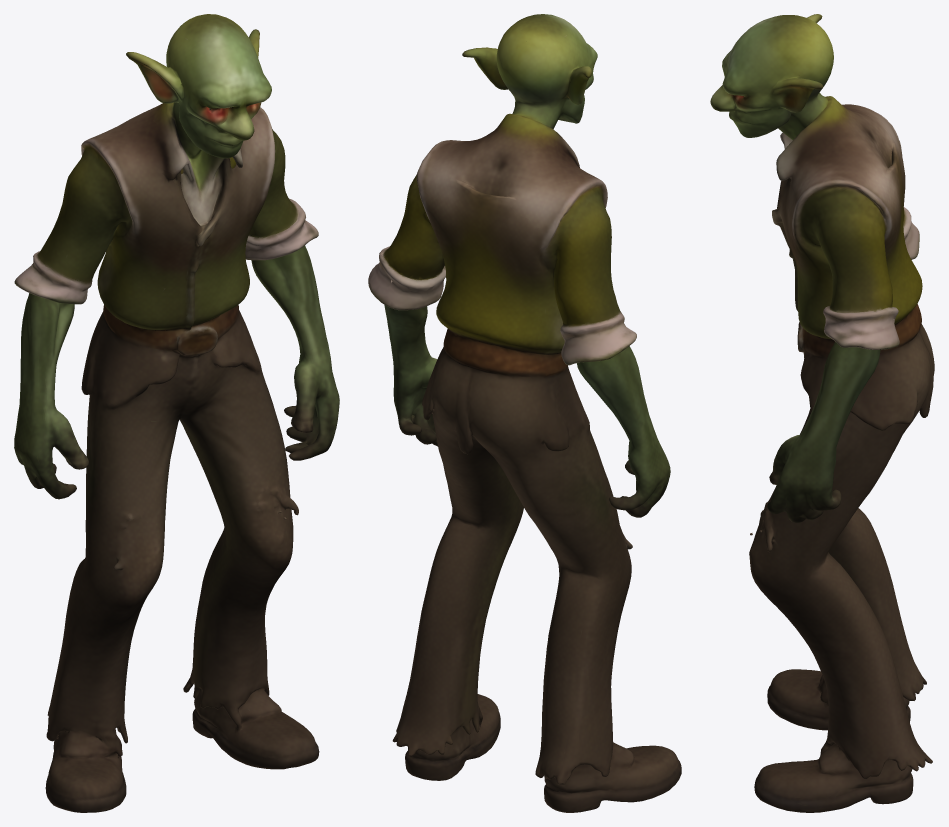
The model's file is goblin.glb.
3 views of the same model, side by side, from view 1: azimuth 30°, elevation 25°; view 2: azimuth 150°, elevation 25°; view 3: azimuth 270°, elevation 25° (orthographic). The views are drawn at different scales.
Parts seen in each view (by area): view 1: geometry_0; view 2: geometry_0; view 3: geometry_0.
Boxes of the visible parts, x1,y1,x2,y2 form: geometry_0: (14, 14, 339, 812); geometry_0: (368, 14, 681, 812); geometry_0: (710, 14, 934, 812).
Bounding box in the file's own units: 0.4085 × 1 × 0.273.
Materials: 1 (1 with a texture image).
